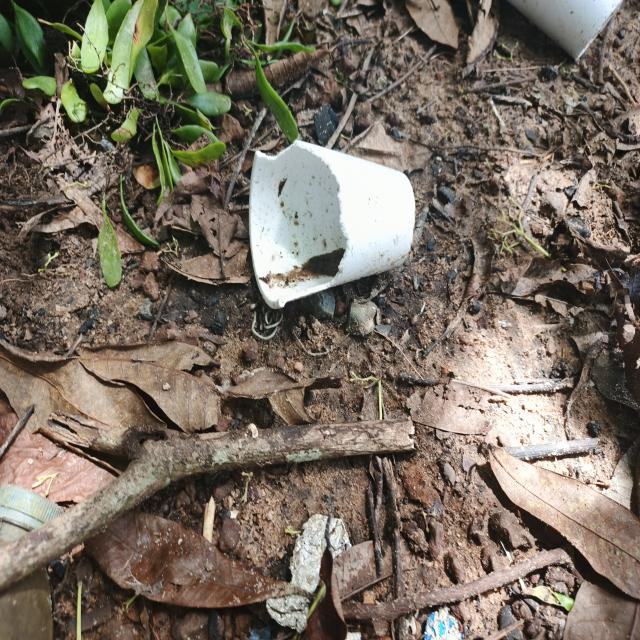plastic: (243, 128, 425, 315)
